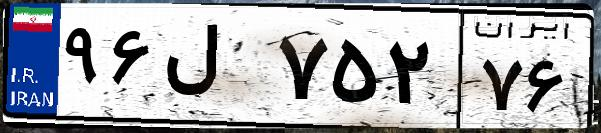2: (385, 28, 445, 110)
5: (330, 28, 385, 110)
6: (525, 38, 570, 115), (110, 28, 158, 98)
7: (270, 28, 330, 110), (475, 38, 525, 113)
9: (57, 26, 110, 100)
ل: (158, 20, 270, 120)
